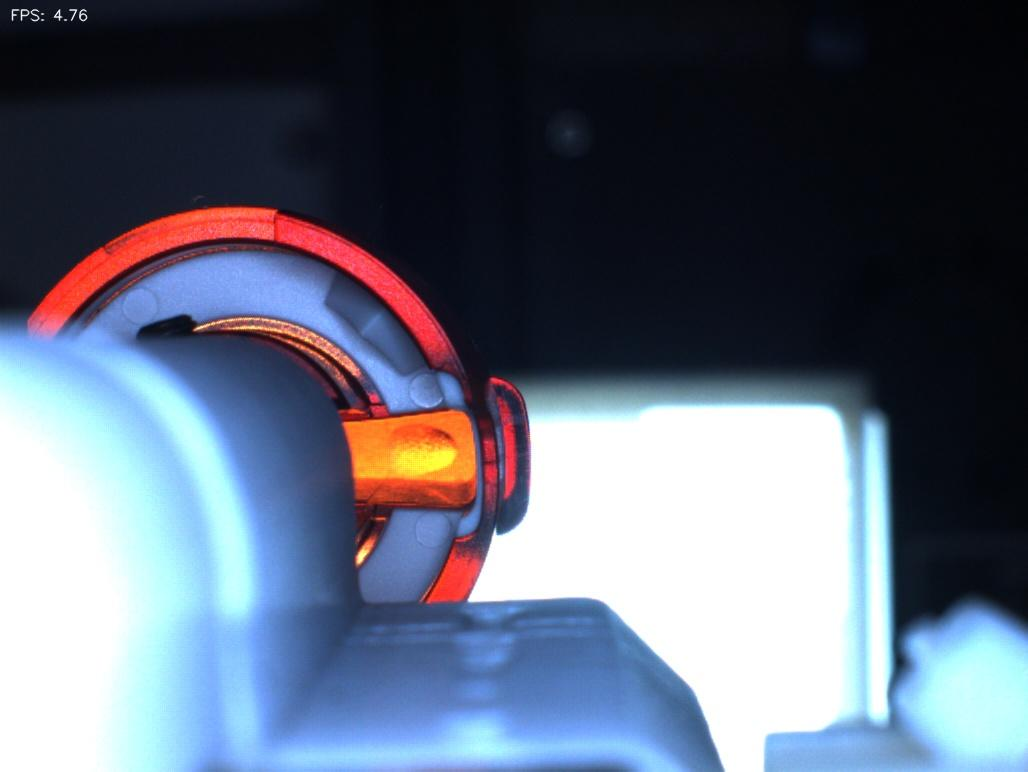Retassure: (378, 417, 465, 489)
